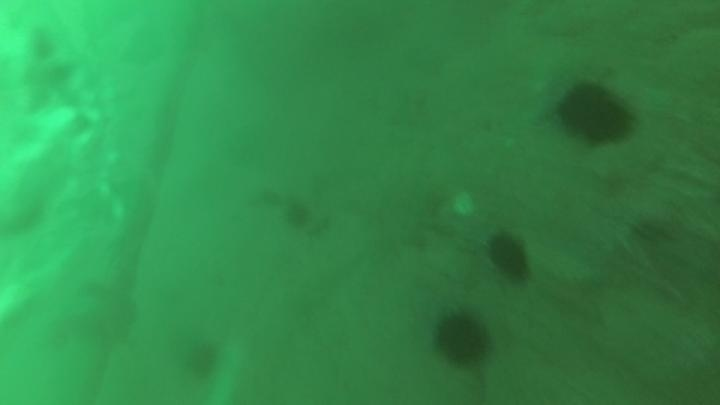echinus: (553, 79, 637, 149), (430, 307, 495, 370), (485, 230, 533, 284), (181, 338, 223, 382), (281, 198, 314, 231)
